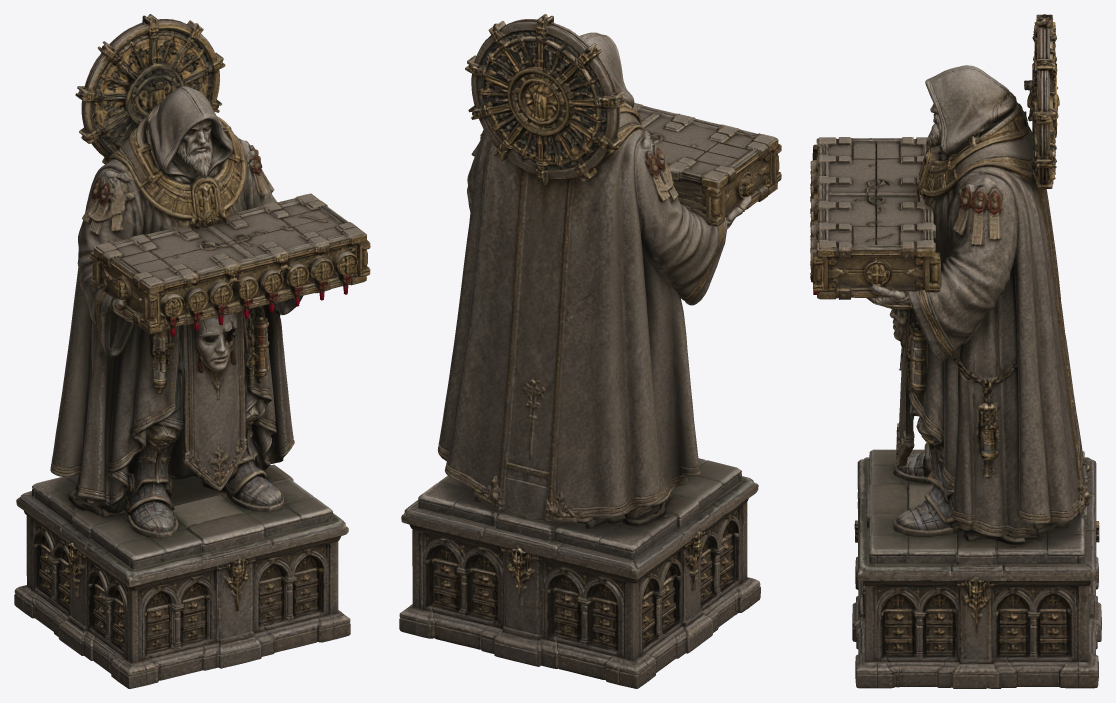
The model's file is fantasy_statue.glb.
3 renders of one model, left to right at view 1: azimuth 30°, elevation 25°; view 2: azimuth 150°, elevation 25°; view 3: azimuth 270°, elevation 25°, orthographic. The views are drawn at different scales.
Bounding box in the file's own units: 0.3967 × 0.9781 × 0.422.
Materials: 1 (1 with a texture image).
